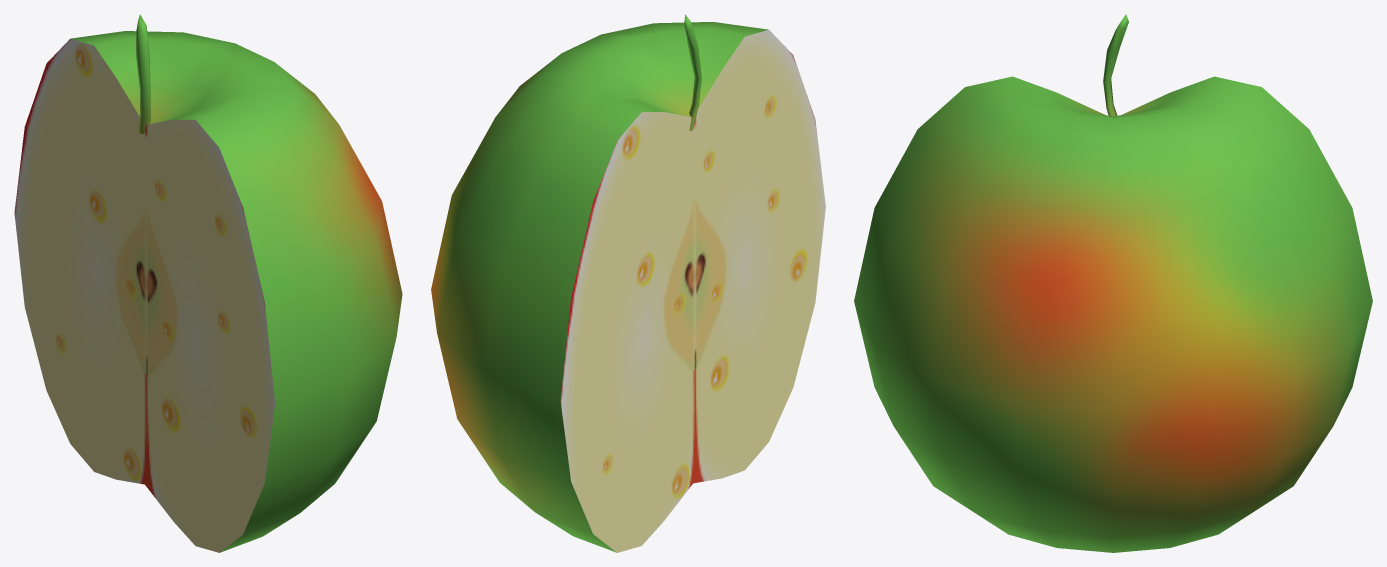
Rendered from appleS.FBX.
3 renders of one model, left to right at view 1: azimuth 30°, elevation 25°; view 2: azimuth 150°, elevation 25°; view 3: azimuth 270°, elevation 25°, orthographic. The views are drawn at different scales.
Visible parts, largest first — view 1: apple001; view 2: apple001; view 3: apple001.
Boxes of the visible parts, <box> form: apple001: <box>14,14,402,552</box>; apple001: <box>431,14,825,552</box>; apple001: <box>854,14,1372,552</box>.
Bounding box in the file's own units: 4.65 × 9.42 × 9.07.
